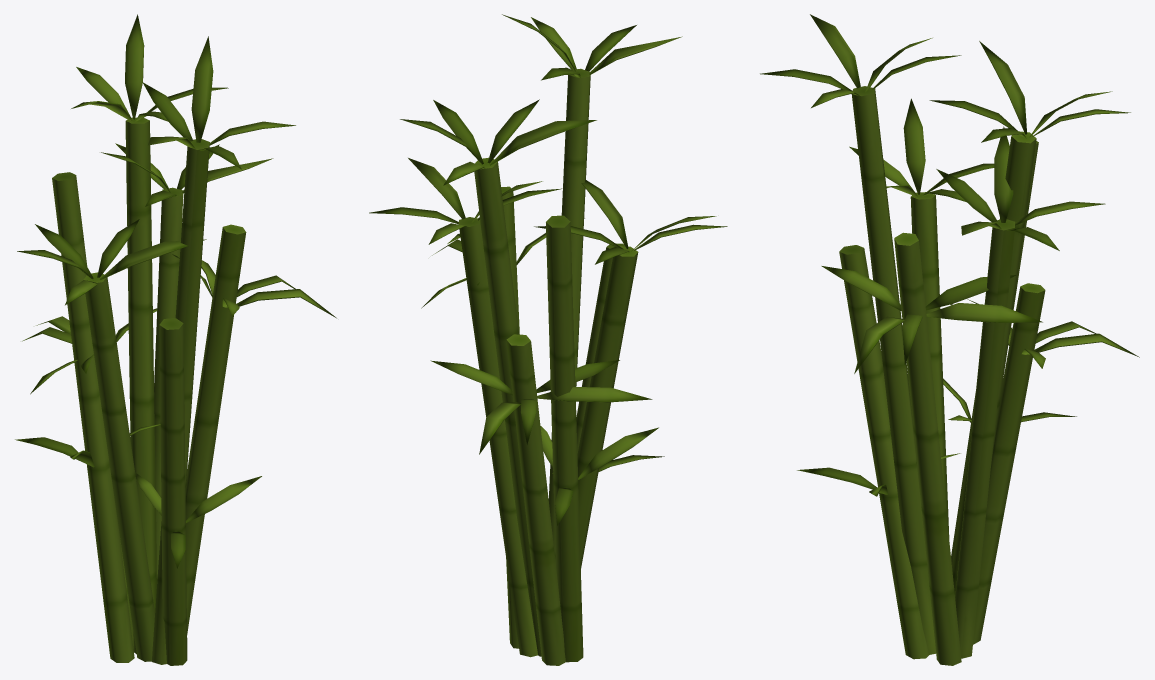
The model's file is Bamboo_03.gltf.
3 views of the same model, side by side, from view 1: azimuth 30°, elevation 25°; view 2: azimuth 150°, elevation 25°; view 3: azimuth 270°, elevation 25° (orthographic). The views are drawn at different scales.
Visible parts, largest first — view 1: Bamboo_3, Bamboo_3.001; view 2: Bamboo_3, Bamboo_3.001; view 3: Bamboo_3, Bamboo_3.001.
Boxes of the visible parts, left/top/right/bottom form: Bamboo_3: left=15, top=14, right=336, bottom=664; Bamboo_3.001: left=17, top=143, right=273, bottom=665; Bamboo_3: left=400, top=14, right=682, bottom=662; Bamboo_3.001: left=369, top=158, right=727, bottom=665; Bamboo_3: left=760, top=14, right=1130, bottom=665; Bamboo_3.001: left=797, top=98, right=1139, bottom=659.
Size of the model in its own units: 5.86 by 11.56 by 6.28.
Materials: 1 (1 with a texture image).
